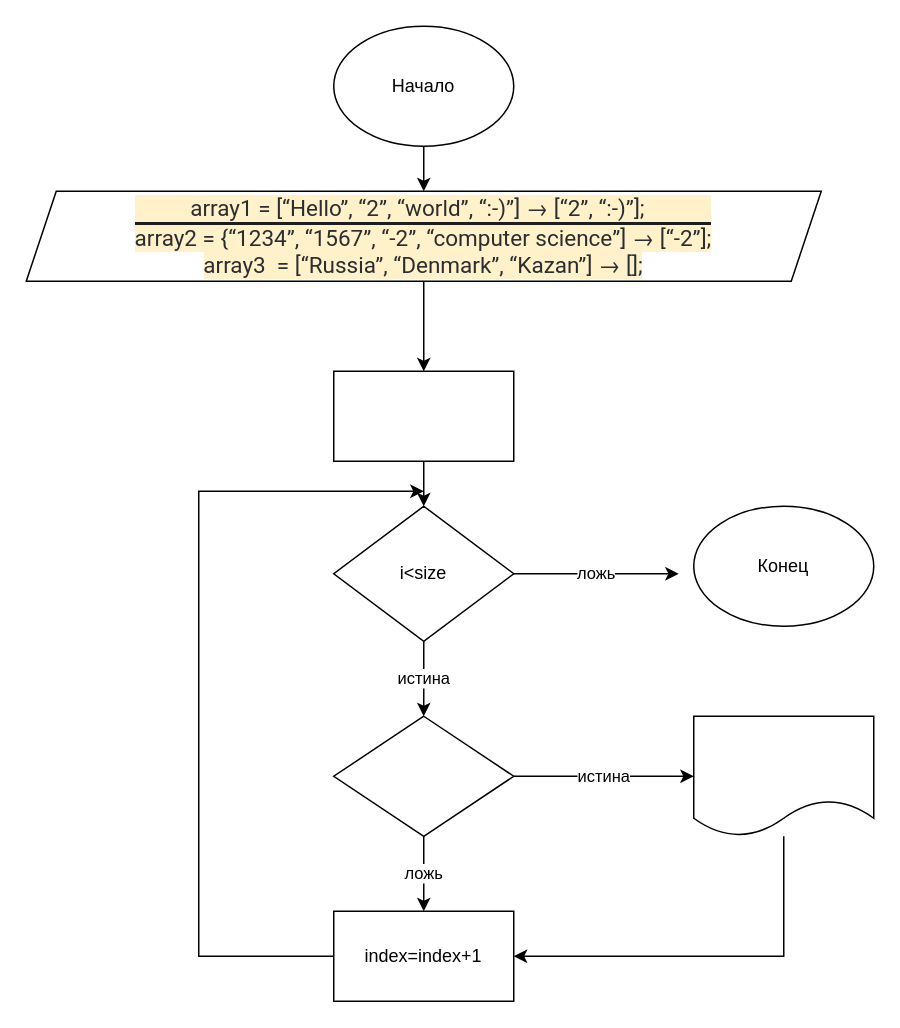
This 900x1028 diagram has some shape labels left out. The shapes that lost their labels are listed below. From the top down, each one's centre as x and y in pixels, then its label:
(423,415): i=0 size=3
(423,775): a[i]<=3 символов
(783,775): a[i]
